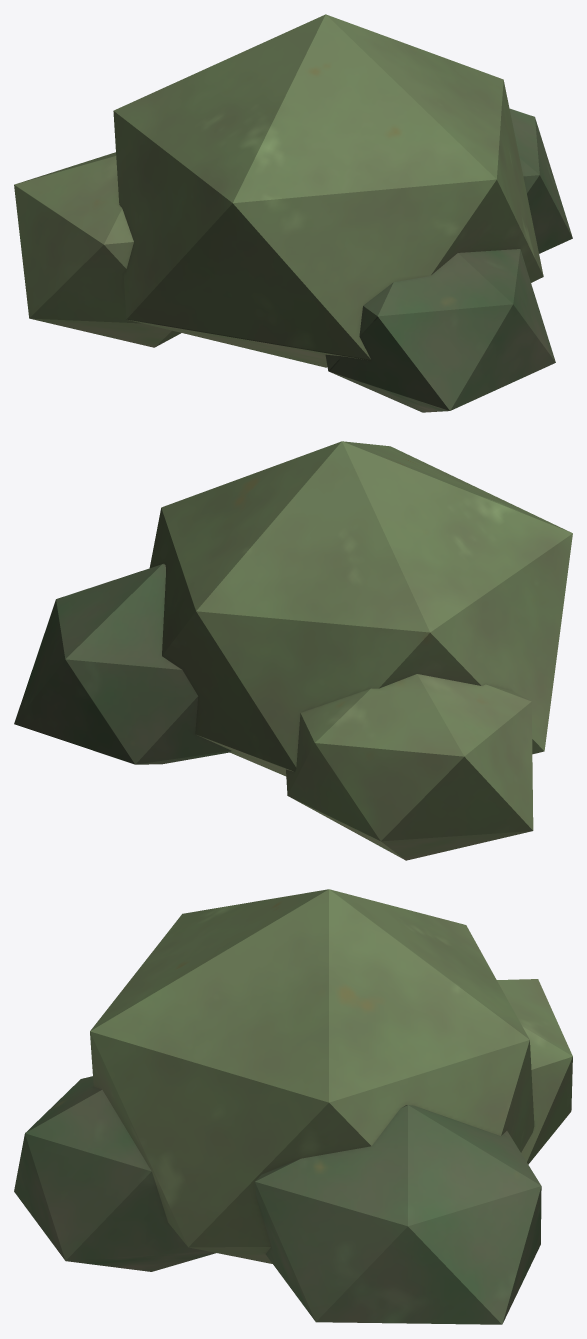
Rendered from arbusto.glb.
The picture shows the model from 3 angles, top to bottom: view 1: azimuth 30°, elevation 25°; view 2: azimuth 150°, elevation 25°; view 3: azimuth 270°, elevation 25°; orthographic projection. The views are drawn at different scales.
Parts seen in each view (by area): view 1: arbusto; view 2: arbusto; view 3: arbusto.
Part boxes in pixels (x1,y1,x2,y2): arbusto: (14, 14, 572, 412); arbusto: (14, 441, 572, 860); arbusto: (14, 889, 572, 1324).
Bounding box in the file's own units: 0.6242 × 0.4321 × 0.567.
Materials: 1 (1 with a texture image).
